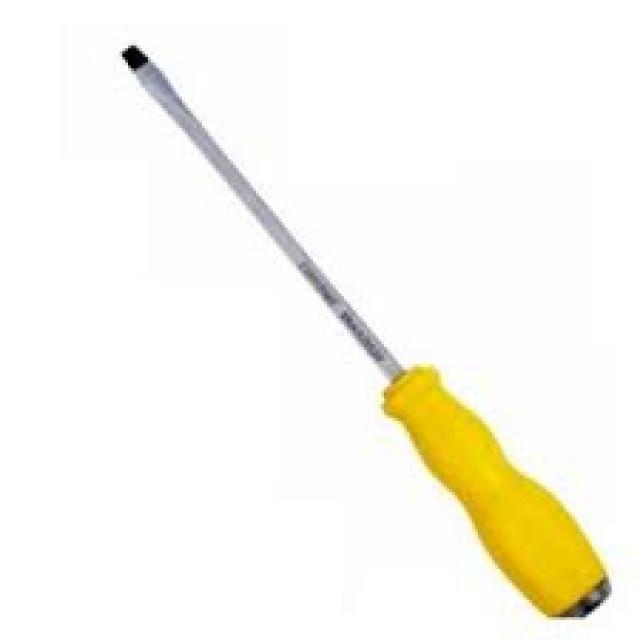screwdriver: (116, 30, 612, 619)
